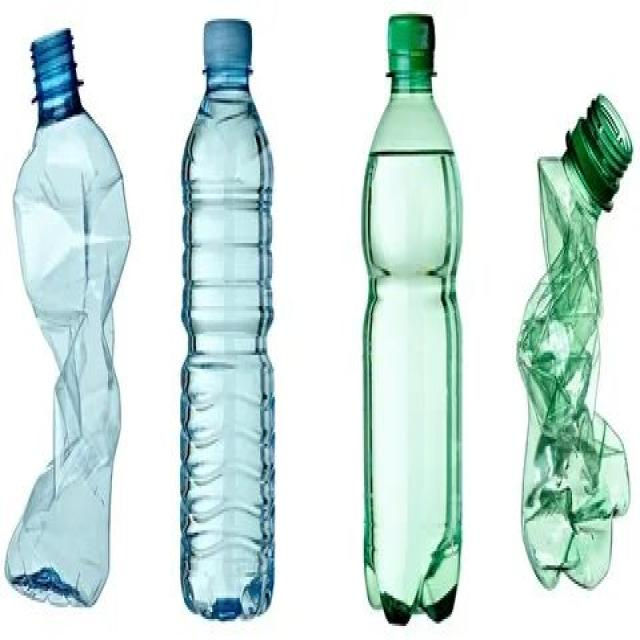blue: (5, 20, 131, 612), (179, 67, 275, 619)
green: (514, 94, 632, 590), (361, 72, 464, 626)
